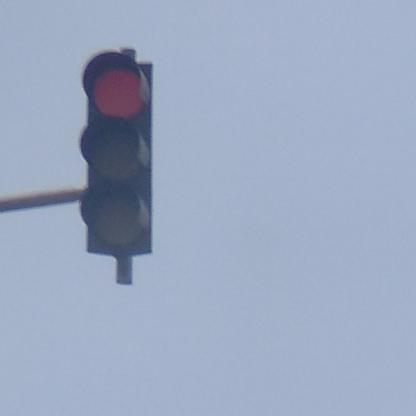red: (77, 51, 155, 256)
